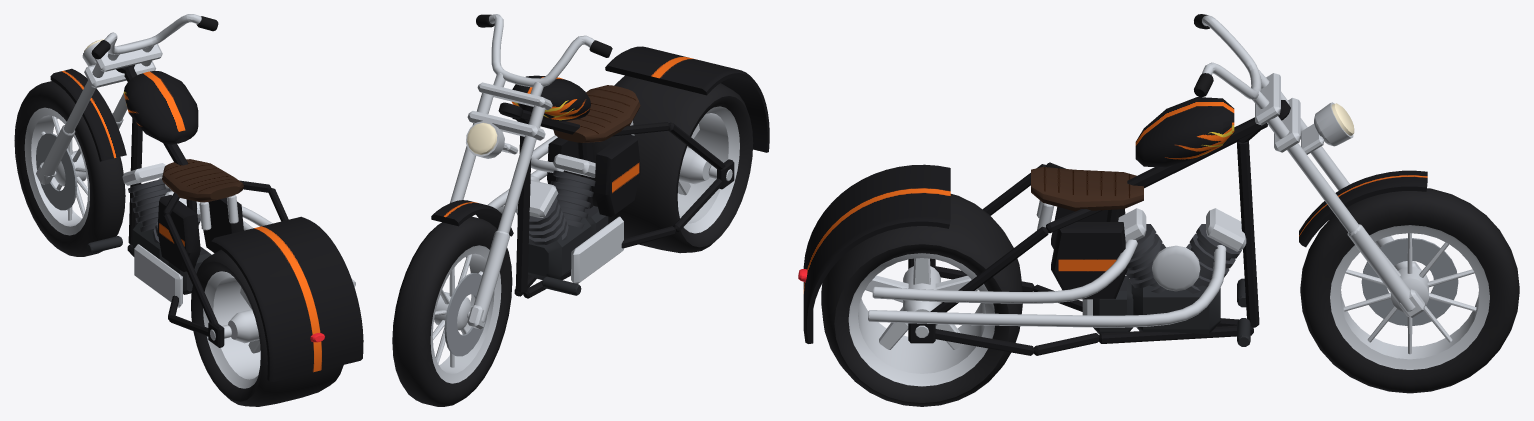
File: MotorcycleTag_Chopper.obj
3 renders of one model, left to right at view 1: azimuth 30°, elevation 25°; view 2: azimuth 150°, elevation 25°; view 3: azimuth 270°, elevation 25°, orthographic. The views are drawn at different scales.
Visible parts, largest first — view 1: Bodywork, FrontWheel, RearWheel, Engine, Fork, Seat, Swingarm, FrontFender, Frame, Handlebars, Exhaust; view 2: RearWheel, FrontWheel, Bodywork, Engine, Fork, Frame, Seat, Swingarm, Handlebars, FrontFender, Exhaust, Headlight; view 3: FrontWheel, RearWheel, Bodywork, Engine, Exhaust, Fork, Frame, Swingarm, Seat, FrontFender, Handlebars.
Boxes of the visible parts, x1,y1,x2,y2 form: Bodywork: (123,71,363,381); FrontWheel: (14,81,125,256); RearWheel: (191,249,343,406); Engine: (122,163,211,307); Fork: (36,39,162,184); Seat: (162,159,243,230); Swingarm: (163,180,288,347); FrontFender: (50,68,126,161); Frame: (86,64,199,256); Handlebars: (91,14,218,60); Exhaust: (158,177,355,287); RearWheel: (591,75,753,253); FrontWheel: (392,216,512,406); Bodywork: (512,46,769,216); Engine: (515,154,623,283); Fork: (450,82,552,329); Frame: (498,102,592,298); Seat: (553,85,640,142); Swingarm: (612,122,734,248); Handlebars: (476,14,612,96); FrontFender: (431,200,513,236); Exhaust: (487,135,563,213); Headlight: (467,122,497,154); FrontWheel: (1300,188,1519,393); RearWheel: (821,194,1022,406); Bodywork: (803,97,1234,343); Engine: (1082,208,1246,334); Exhaust: (868,239,1226,327); Fork: (1255,73,1424,317); Frame: (1099,100,1290,346); Swingarm: (908,162,1102,355); Seat: (1031,166,1143,233); FrontFender: (1299,170,1427,247); Handlebars: (1194,14,1269,108).
Bounding box in the file's own units: 2.3 × 4.78 × 8.95.
Materials: 1 (1 with a texture image).
